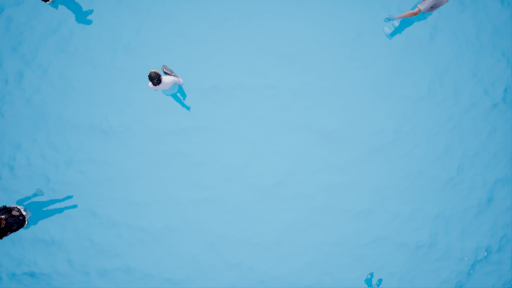person: (1, 196, 85, 240), (149, 69, 196, 111)
